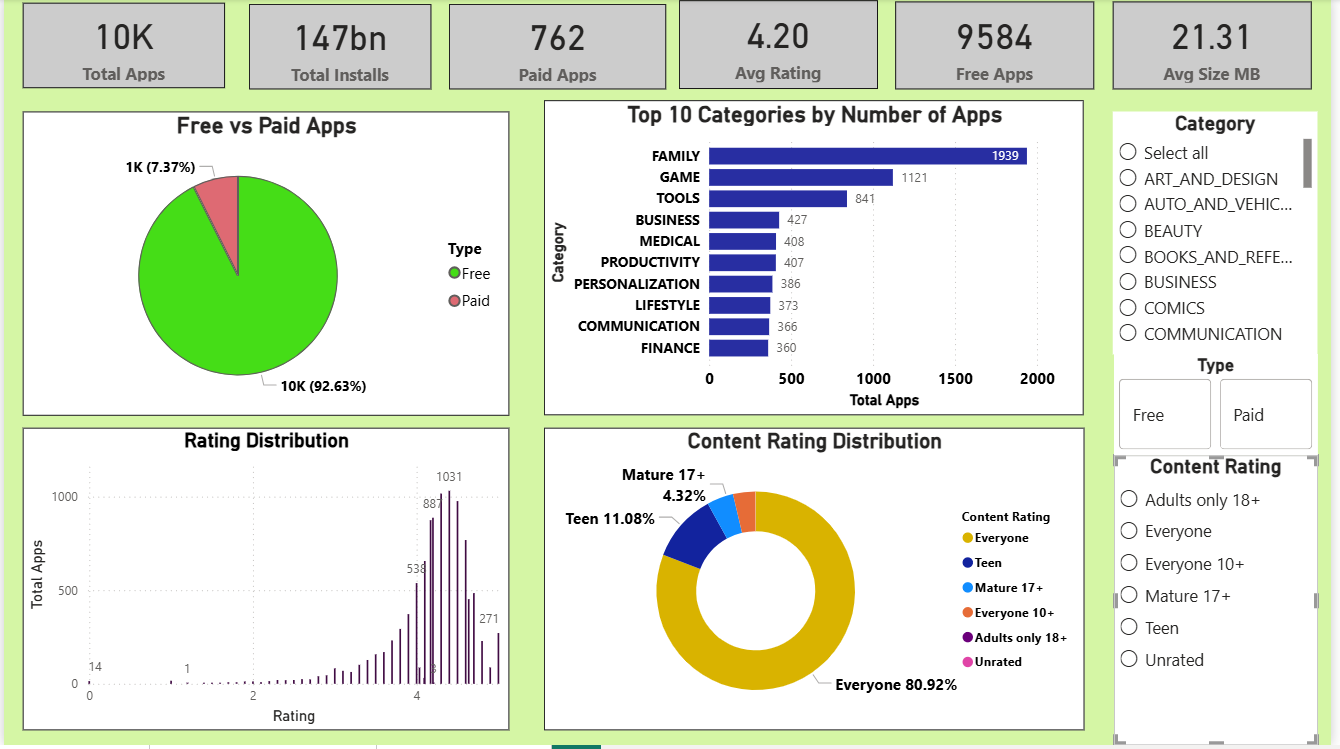

This screenshot's page, from the dashboard's own definition file:
{"tool":"powerbi","page":{"name":"Overview Dashboard","canvas":[1280,720],"ordinal":0},"visuals":[{"type":"card","fields":{"Values":["playstore_cleaned.Total Apps"]},"box":[18.1,3.6,195.4,82],"z":0},{"type":"card","fields":{"Values":["playstore_cleaned.Total Installs"]},"box":[236.5,4.8,176.1,82],"z":1000},{"type":"card","fields":{"Values":["playstore_cleaned.Paid Apps"]},"box":[429.5,4.8,209.9,82],"z":2000},{"type":"card","fields":{"Values":["playstore_cleaned.Avg Rating"]},"box":[651.5,1.2,191.8,85.7],"z":3000},{"type":"card","fields":{"Values":["playstore_cleaned.Free Apps"]},"box":[860.2,2.4,191.8,84.5],"z":4000},{"type":"card","fields":{"Values":["playstore_cleaned.Avg Size MB"]},"box":[1070.1,2.4,191.8,84.5],"z":5000},{"type":"pieChart","title":"Free vs Paid Apps","fields":{"Category":["playstore_cleaned.Type"],"Y":["playstore_cleaned.Total Apps"]},"box":[17.8,108.4,469.3,293.7],"z":6000},{"type":"clusteredBarChart","title":"Top 10 Categories by Number of Apps","fields":{"Category":["playstore_cleaned.Category"],"Y":["playstore_cleaned.Total Apps"]},"box":[521.2,97.7,521.2,304],"z":7000},{"type":"columnChart","title":"Rating Distribution","fields":{"Category":["playstore_cleaned.Rating"],"Y":["playstore_cleaned.Total Apps"]},"box":[17.8,414.4,469.3,292.3],"z":8000},{"type":"donutChart","title":"Content Rating Distribution","fields":{"Category":["playstore_cleaned.Content Rating"],"Y":["playstore_cleaned.Total Apps"]},"box":[521.4,414.4,521.4,292.3],"z":9000},{"type":"listSlicer","fields":{"Values":["playstore_cleaned.Category"]},"box":[1070.1,108.6,197.9,234],"z":10000},{"type":"listSlicer","fields":{"Values":["playstore_cleaned.Content Rating"]},"box":[1071.3,440.4,196.6,279.9],"z":11000},{"type":"advancedSlicerVisual","fields":{"Values":["playstore_cleaned.Type"]},"box":[1071.3,342.6,196.6,97.7],"z":13000}]}

Visuals, with their boxes in screenshot pixels (x1, y1, x2, y2), scaled from the page's 1280x720 canvas onto the 1340x749 screenshot:
card - playstore_cleaned.Total Apps: pyautogui.locateOnScreen(19, 4, 224, 89)
card - playstore_cleaned.Total Installs: pyautogui.locateOnScreen(248, 5, 432, 90)
card - playstore_cleaned.Paid Apps: pyautogui.locateOnScreen(450, 5, 669, 90)
card - playstore_cleaned.Avg Rating: pyautogui.locateOnScreen(682, 1, 883, 90)
card - playstore_cleaned.Free Apps: pyautogui.locateOnScreen(901, 2, 1101, 90)
card - playstore_cleaned.Avg Size MB: pyautogui.locateOnScreen(1120, 2, 1321, 90)
"Free vs Paid Apps" pieChart: pyautogui.locateOnScreen(19, 113, 510, 418)
"Top 10 Categories by Number of Apps" clusteredBarChart: pyautogui.locateOnScreen(546, 102, 1091, 418)
"Rating Distribution" columnChart: pyautogui.locateOnScreen(19, 431, 510, 735)
"Content Rating Distribution" donutChart: pyautogui.locateOnScreen(546, 431, 1092, 735)
listSlicer - playstore_cleaned.Category: pyautogui.locateOnScreen(1120, 113, 1327, 356)
listSlicer - playstore_cleaned.Content Rating: pyautogui.locateOnScreen(1122, 458, 1327, 748)
advancedSlicerVisual - playstore_cleaned.Type: pyautogui.locateOnScreen(1122, 356, 1327, 458)
